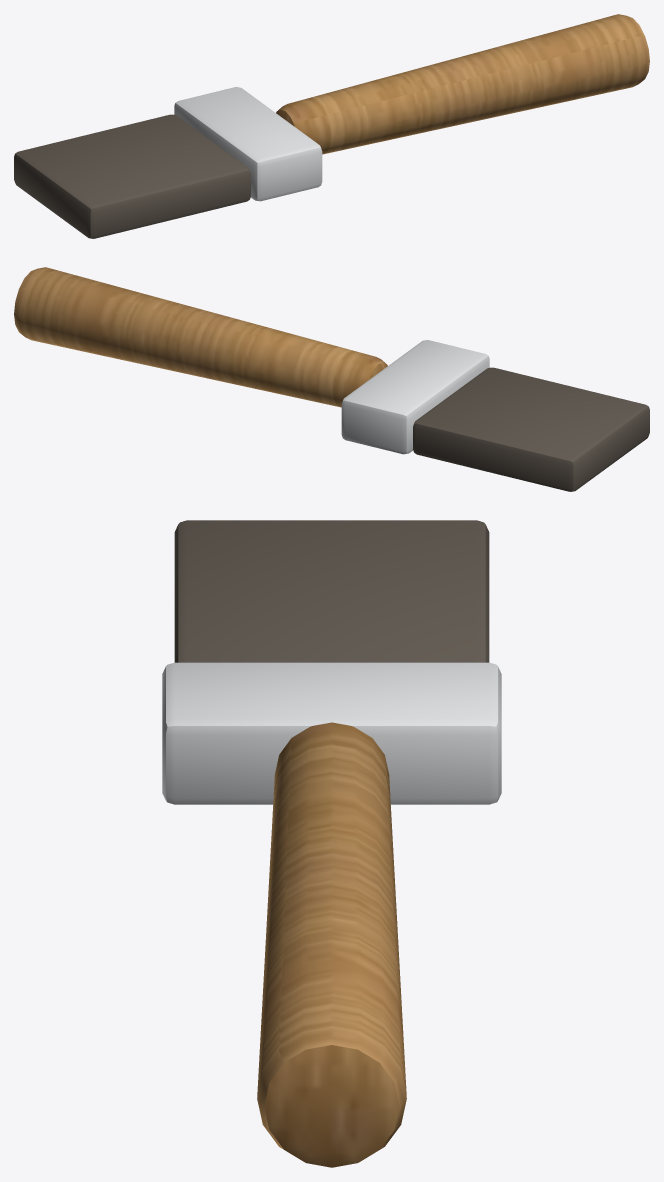
The model's file is PIN-FER-002.glb.
The picture shows the model from 3 angles, top to bottom: view 1: azimuth 30°, elevation 25°; view 2: azimuth 150°, elevation 25°; view 3: azimuth 270°, elevation 25°; orthographic projection. The views are drawn at different scales.
Parts seen in each view (by area): view 1: PIN-FER-002_cabo, PIN-FER-002_cerdas, PIN-FER-002_virola; view 2: PIN-FER-002_cabo, PIN-FER-002_cerdas, PIN-FER-002_virola; view 3: PIN-FER-002_cabo, PIN-FER-002_cerdas, PIN-FER-002_virola.
Boxes of the visible parts, x1,y1,x2,y2 form: PIN-FER-002_cabo: (276, 14, 649, 154); PIN-FER-002_cerdas: (14, 114, 250, 238); PIN-FER-002_virola: (174, 87, 322, 201); PIN-FER-002_cabo: (14, 267, 387, 407); PIN-FER-002_cerdas: (413, 367, 649, 491); PIN-FER-002_virola: (341, 340, 489, 454); PIN-FER-002_cabo: (257, 722, 406, 1167); PIN-FER-002_cerdas: (174, 520, 489, 662); PIN-FER-002_virola: (162, 662, 501, 804).
Bounding box in the file's own units: 0.215 × 0.0238 × 0.054.
Materials: 3 (1 with a texture image).
